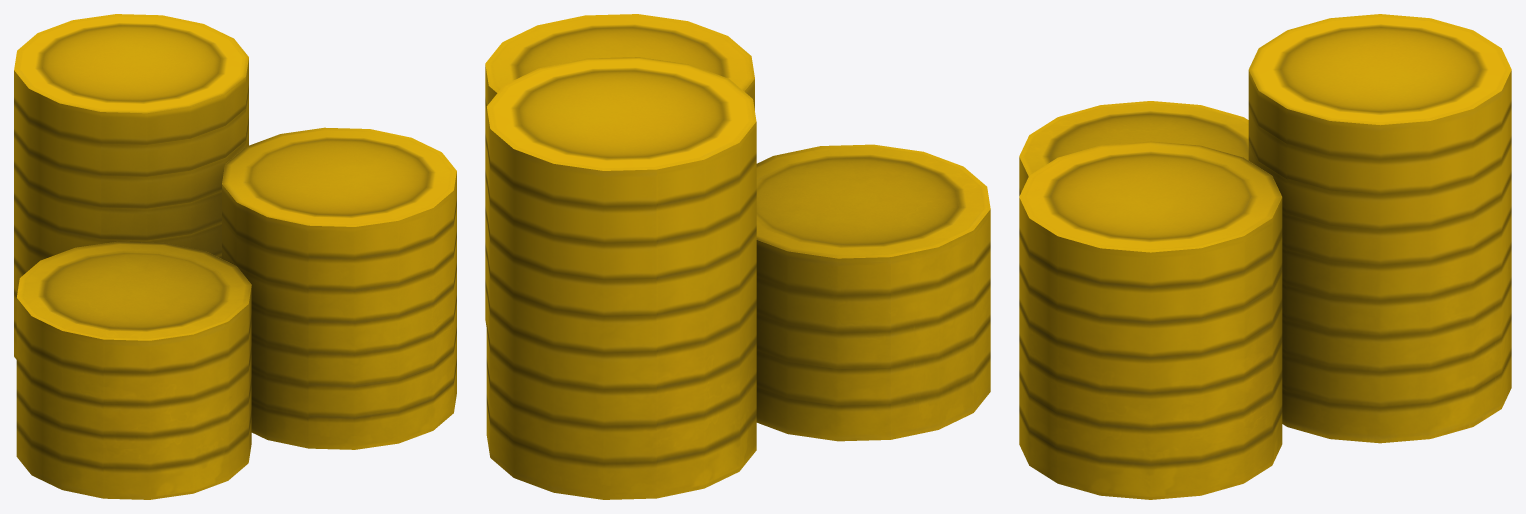
The model's file is coinpile1tex.fbx.
3 renders of one model, left to right at view 1: azimuth 30°, elevation 25°; view 2: azimuth 150°, elevation 25°; view 3: azimuth 270°, elevation 25°, orthographic. The views are drawn at different scales.
Parts seen in each view (by area): view 1: coinpile1tex; view 2: coinpile1tex; view 3: coinpile1tex.
Part boxes in pixels (x1,y1,x2,y2): coinpile1tex: [14, 14, 456, 499]; coinpile1tex: [485, 14, 990, 499]; coinpile1tex: [1019, 14, 1511, 499].
Bounding box in the file's own units: 0.5998 × 0.4001 × 0.5615.
